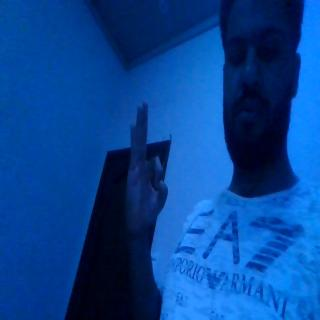Space: (123, 90, 178, 252)
